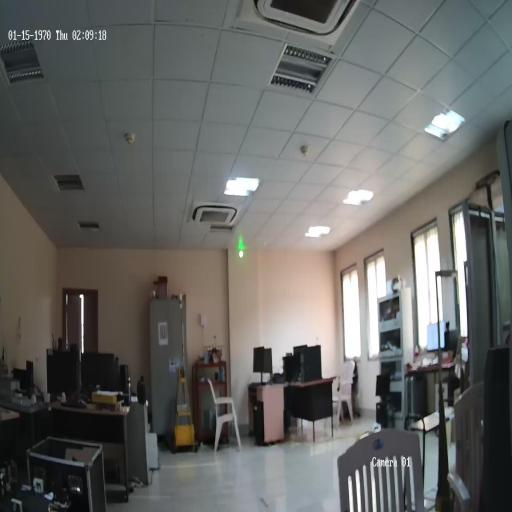laser: (239, 249, 244, 257)
